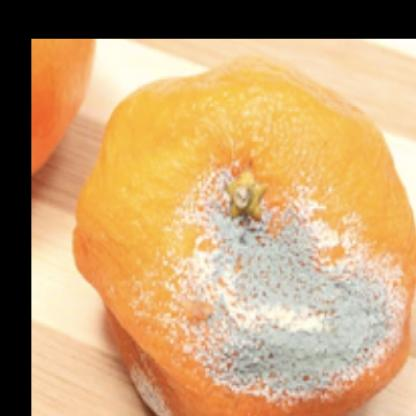rotten: (76, 54, 416, 416)
